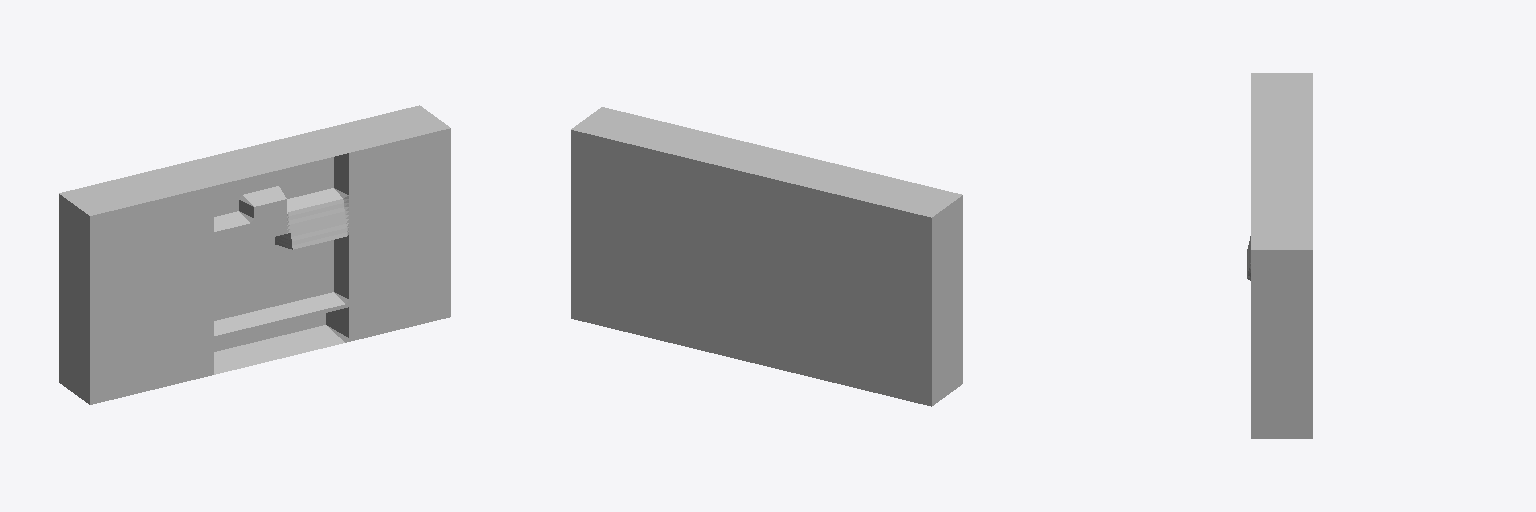
File: rectangular_prism_bumps_0_1.obj
3 views of the same model, side by side, from view 1: azimuth 30°, elevation 25°; view 2: azimuth 150°, elevation 25°; view 3: azimuth 270°, elevation 25° (orthographic).
Bounding box in the file's own units: 10 × 5 × 1.6.